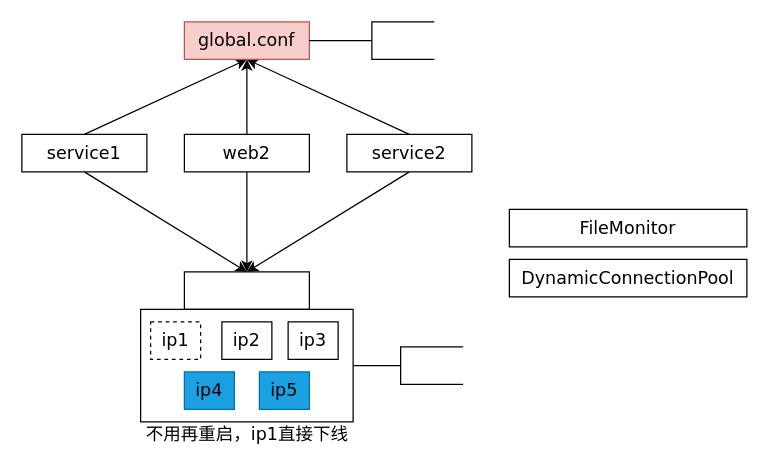
Image size: 769x469. Some labels were removed from this diagram. Here are the shapes that lost their labels. From the top down, the centre of each, then its label:
the point at 402,40: us:ip2/ip3/ip4/ip5
the point at 246,290: user-service
the point at 431,365: 服务集群ip2/ip3/ip4/ip5
